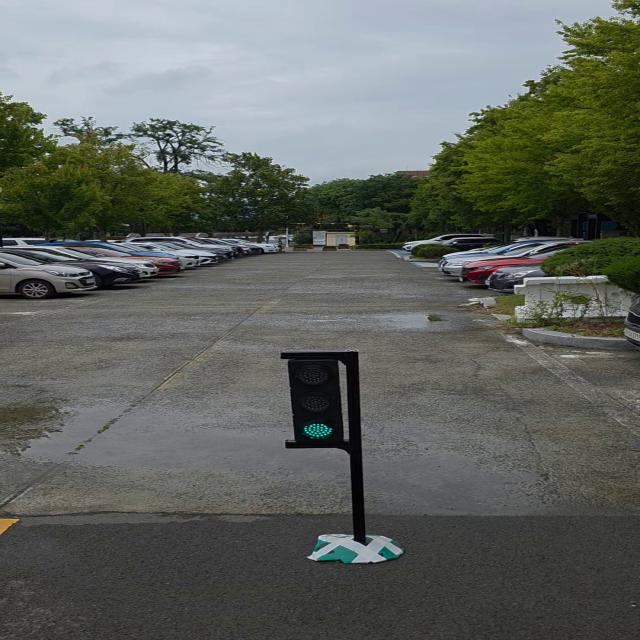green: (288, 352, 351, 448)
